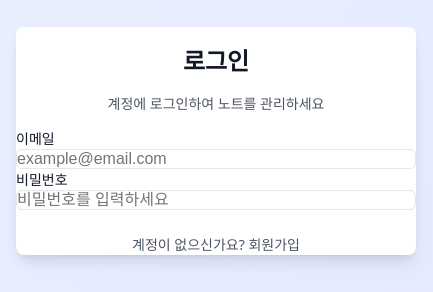
Scenario: Login 페이지 › 로그인 기능 › 잘못된 자격 증명으로 로그인하면 에러가 표시된다
The width and height of the screenshot is (433, 292).
Type "wrong@example.com" into the field labelled "이메일".
click(216, 159); type("wrong@example.com")  # box [16, 149, 416, 169]
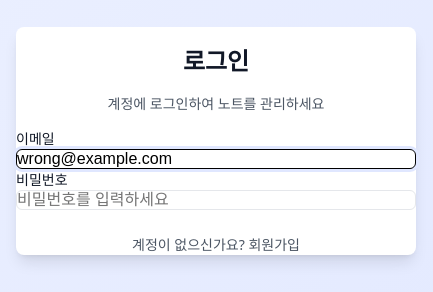
Type "wrongpassword" into the password field labelled "비밀번호".
click(216, 200); type("wrongpassword")  # box [16, 190, 416, 210]
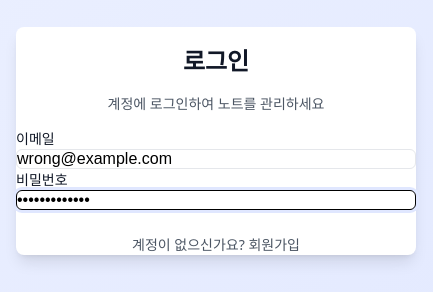
Click the button "로그인".
click(216, 222)  # box [16, 210, 416, 234]
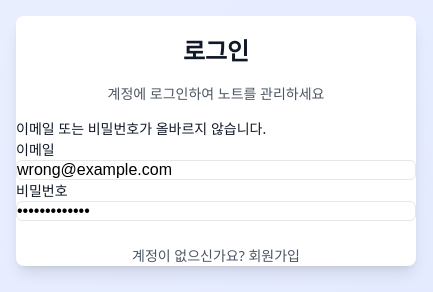
Result: the text "이메일 또는 비밀번호가 올바르지 않습니다." is shown at [16, 118, 266, 138]
